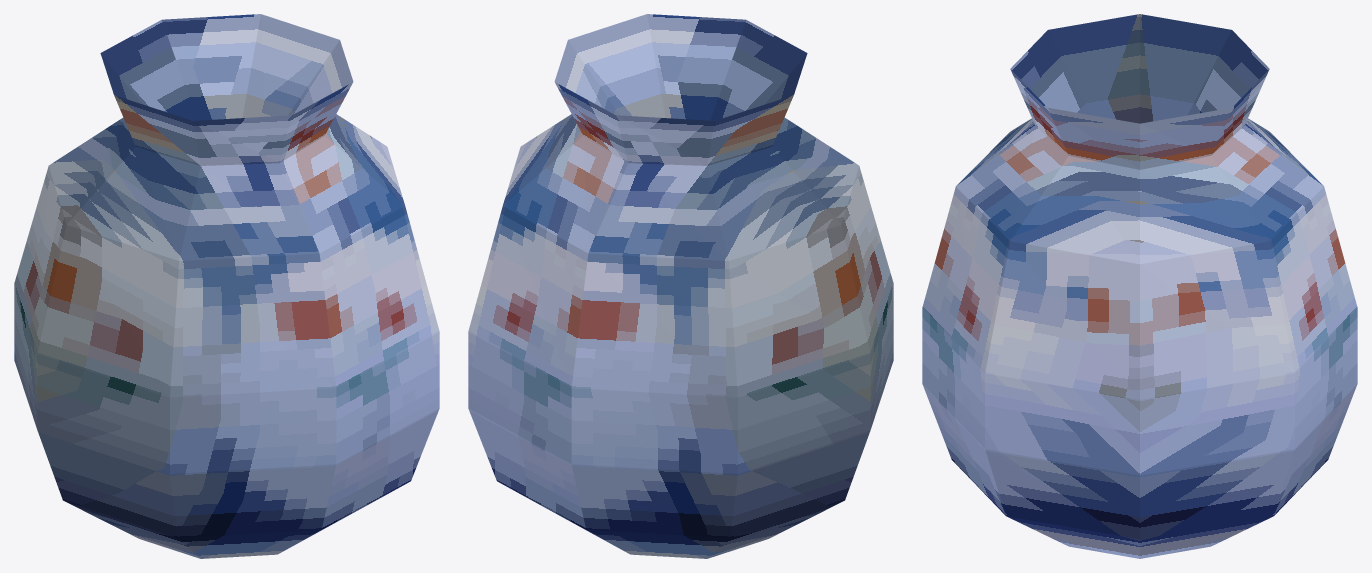
The model's file is otubo7.glb.
3 views of the same model, side by side, from view 1: azimuth 30°, elevation 25°; view 2: azimuth 150°, elevation 25°; view 3: azimuth 270°, elevation 25° (orthographic).
Parts seen in each view (by area): view 1: otubo7; view 2: otubo7; view 3: otubo7.
Boxes of the visible parts, left/top/right/bottom form: otubo7: left=14, top=14, right=439, bottom=558; otubo7: left=468, top=14, right=893, bottom=558; otubo7: left=922, top=14, right=1357, bottom=558.
Size of the model in its own units: 104 by 119 by 104.
1 material, 1 textured.
